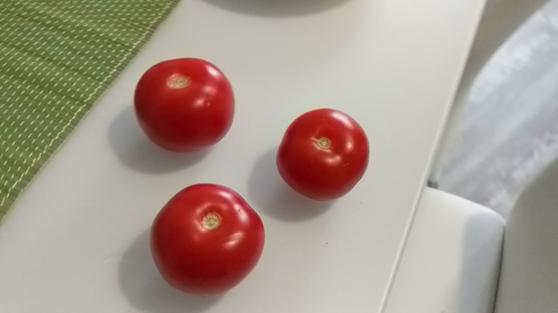tomato: (150, 183, 265, 292), (136, 56, 234, 149), (277, 108, 371, 198)
